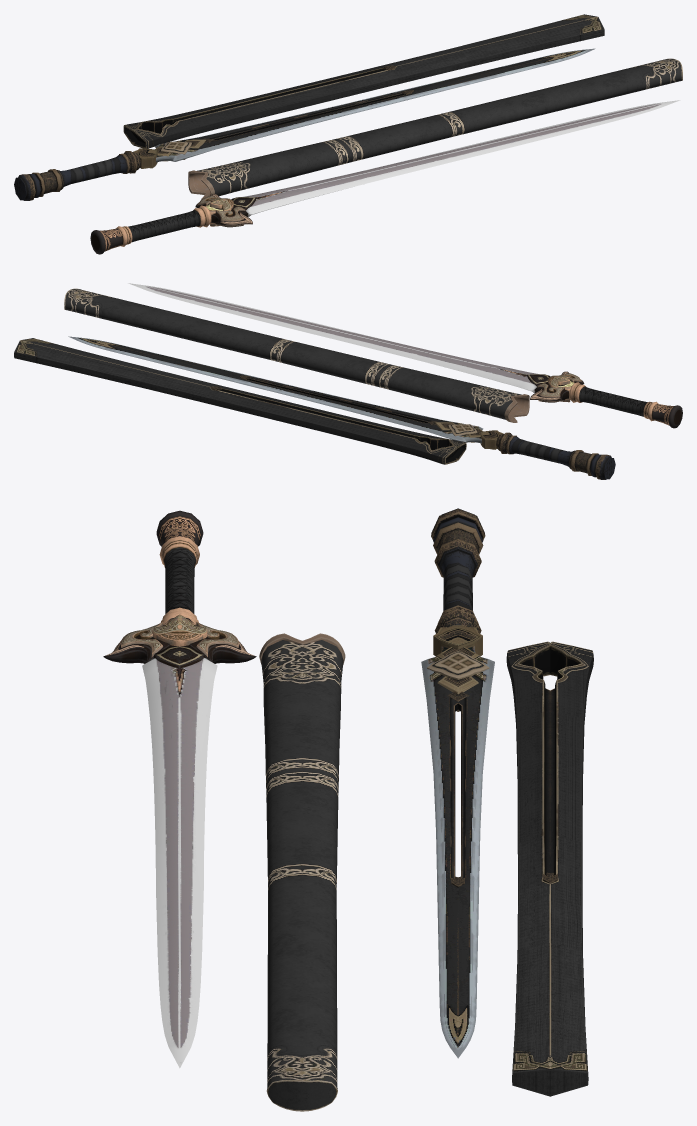
File: WP_EldenSword_Package_LOD0.fbx
3 renders of one model, top to bottom at view 1: azimuth 30°, elevation 25°; view 2: azimuth 150°, elevation 25°; view 3: azimuth 270°, elevation 25°, orthographic. The views are drawn at different scales.
Parts seen in each view (by area): view 1: 3d66-Editable_Poly-22334717-002, 3d66-Editable_Poly-22334717-003, 3d66-Editable_Poly-22334717-004, 3d66-Editable_Poly-22334717-001; view 2: 3d66-Editable_Poly-22334717-002, 3d66-Editable_Poly-22334717-003, 3d66-Editable_Poly-22334717-004, 3d66-Editable_Poly-22334717-001; view 3: 3d66-Editable_Poly-22334717-002, 3d66-Editable_Poly-22334717-003, 3d66-Editable_Poly-22334717-004, 3d66-Editable_Poly-22334717-001.
Part boxes in pixels (x1,y1,x2,y2): 3d66-Editable_Poly-22334717-002: (188,58,682,199); 3d66-Editable_Poly-22334717-003: (123,14,604,148); 3d66-Editable_Poly-22334717-004: (90,100,680,254); 3d66-Editable_Poly-22334717-001: (14,48,595,200); 3d66-Editable_Poly-22334717-002: (64,288,529,422); 3d66-Editable_Poly-22334717-003: (14,338,466,464); 3d66-Editable_Poly-22334717-004: (128,283,682,428); 3d66-Editable_Poly-22334717-001: (68,336,615,479); 3d66-Editable_Poly-22334717-002: (259,633,345,1111); 3d66-Editable_Poly-22334717-003: (506,641,593,1096); 3d66-Editable_Poly-22334717-004: (103,510,256,1068); 3d66-Editable_Poly-22334717-001: (421,508,494,1058).
Bounding box in the file's own units: 123 × 4.95 × 44.91.
2 materials, 2 textured.
